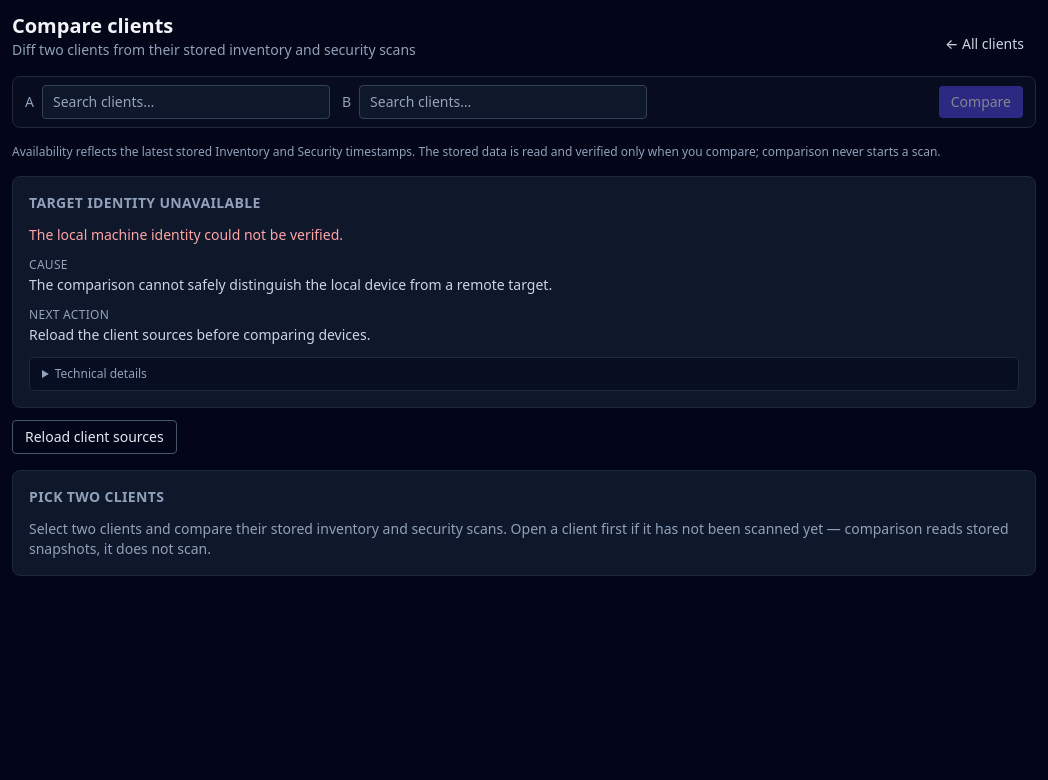
Test: ComparePage data truthfulness › blocks comparison while the local machine identity is unverified and recovers on retry
The width and height of the screenshot is (1048, 780).
Type "PC-A" into the dropdown named "First client" at (186, 102), box [42, 85, 330, 119]
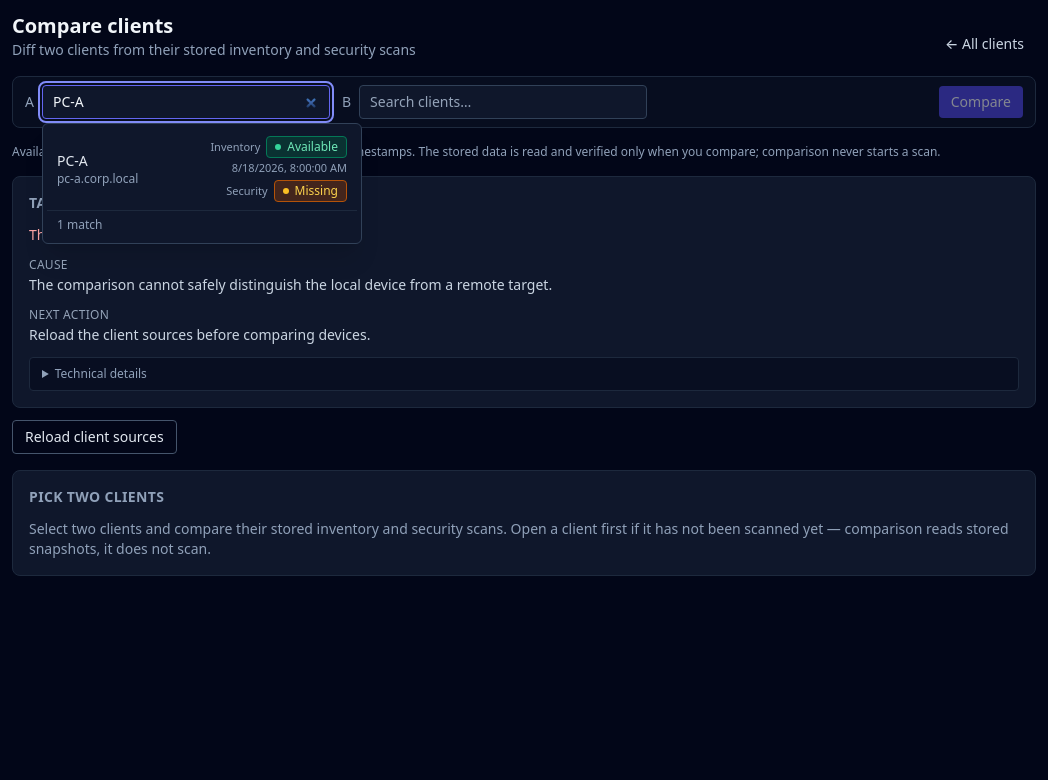
Press Arrowdown Enter
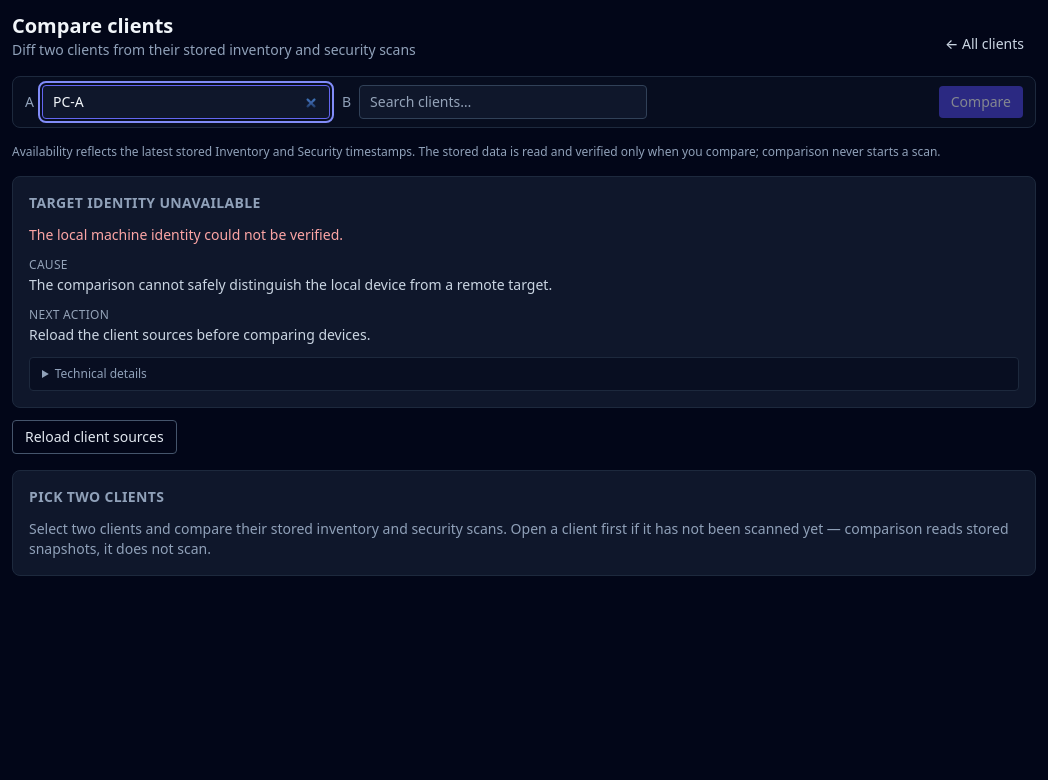
Type "PC-B" into the dropdown named "Second client" at (503, 102), box [359, 85, 647, 119]
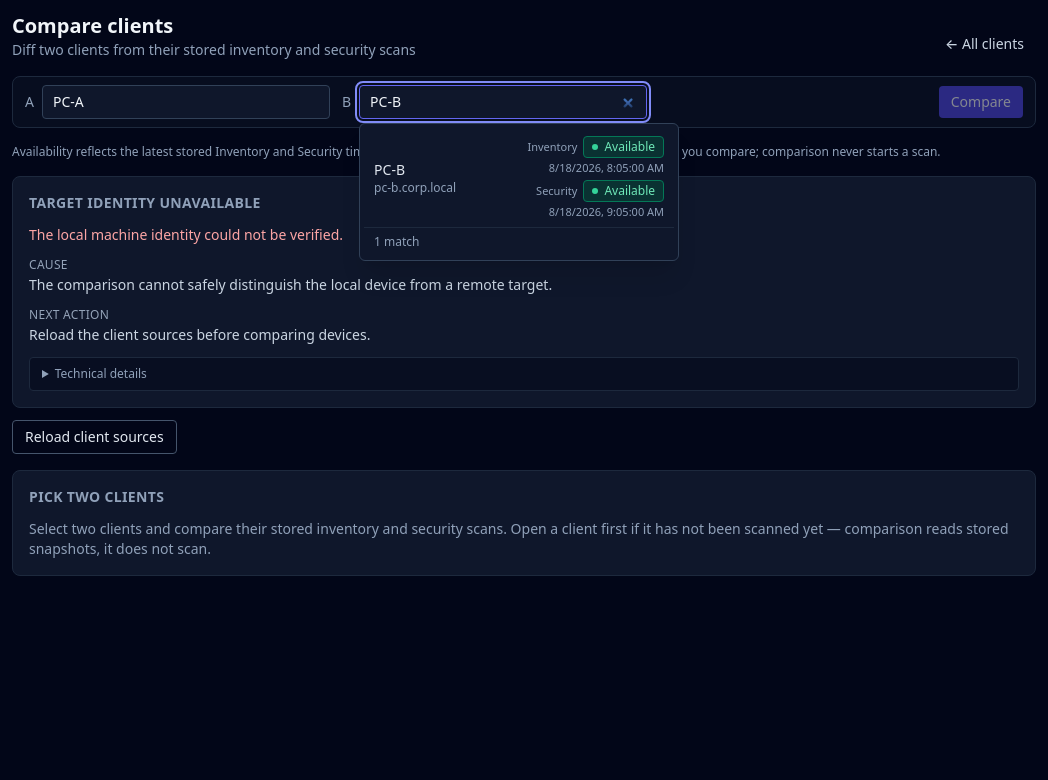
Press Arrowdown Enter
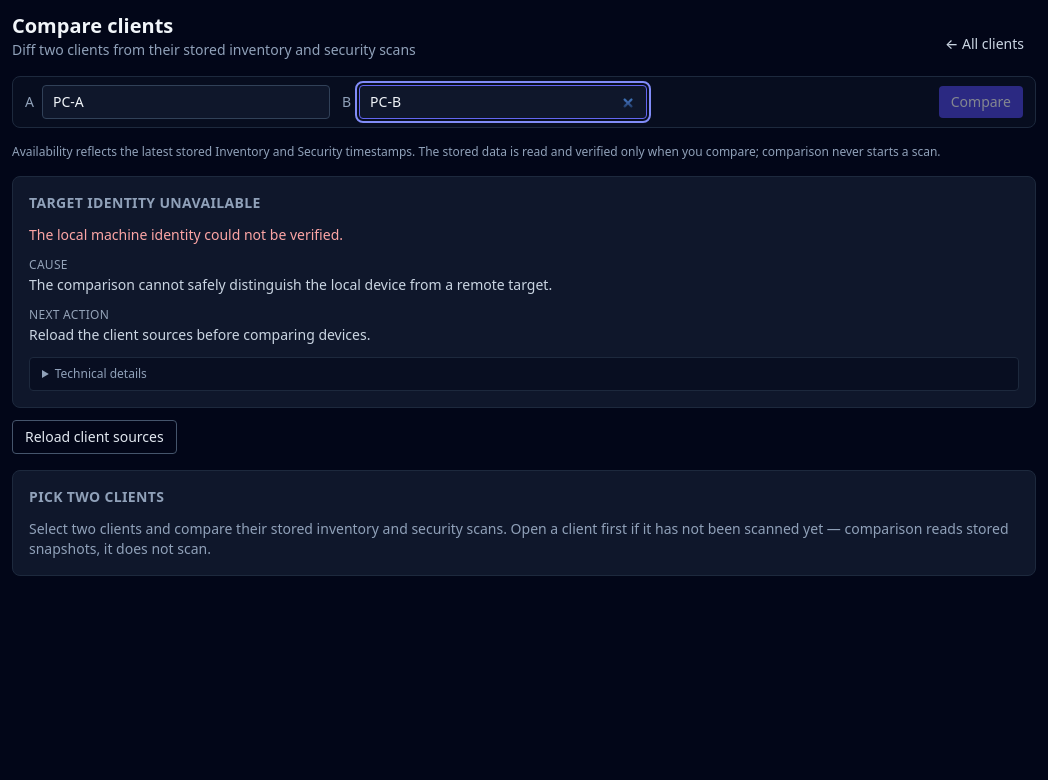
Expected: the text "The local machine identity could not be verified." is shown, [29, 225, 343, 244]
Expected: the button "Compare" is disabled, [939, 86, 1023, 118]
Click the button "Reload client sources" at (94, 437), box [12, 420, 177, 454]
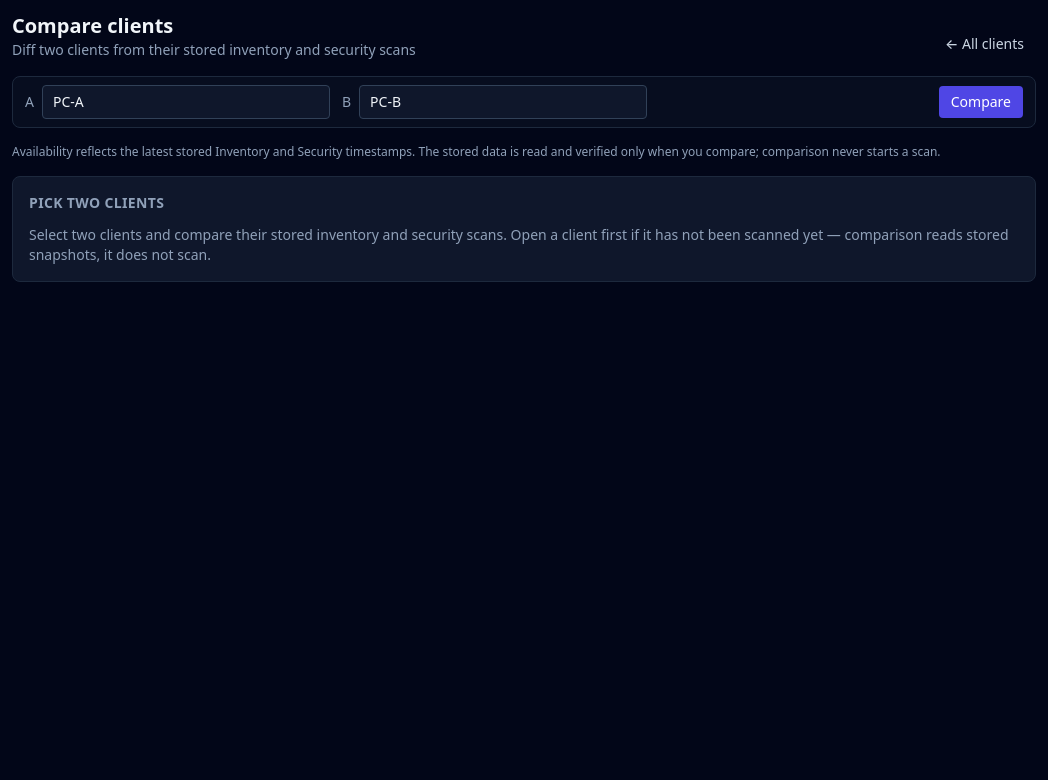
Result: the text "The local machine identity could not be verified." is gone
Result: the button "Compare" is enabled at [939, 86, 1023, 118]
